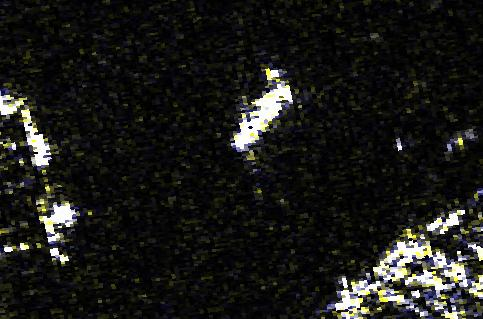ship: (227, 70, 296, 153)
